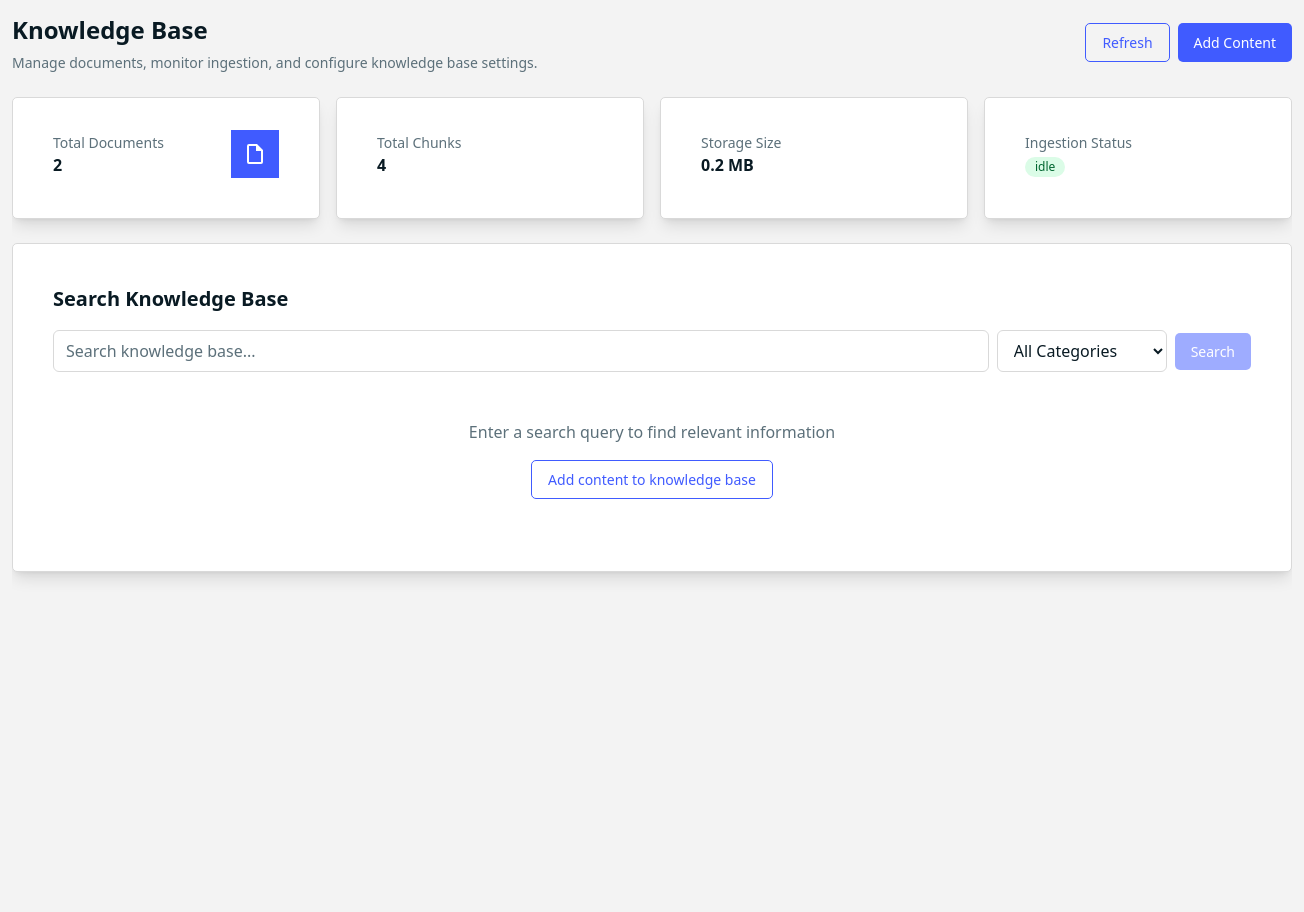
Scenario: Knowledge › shows search errors from the API
The width and height of the screenshot is (1304, 912).
Check: the heading "Knowledge Base" is shown, box [12, 13, 208, 46]
In the field with placeholder "Search knowledge base...": (521, 351) [53, 330, 989, 372], type "how do I tune memory"
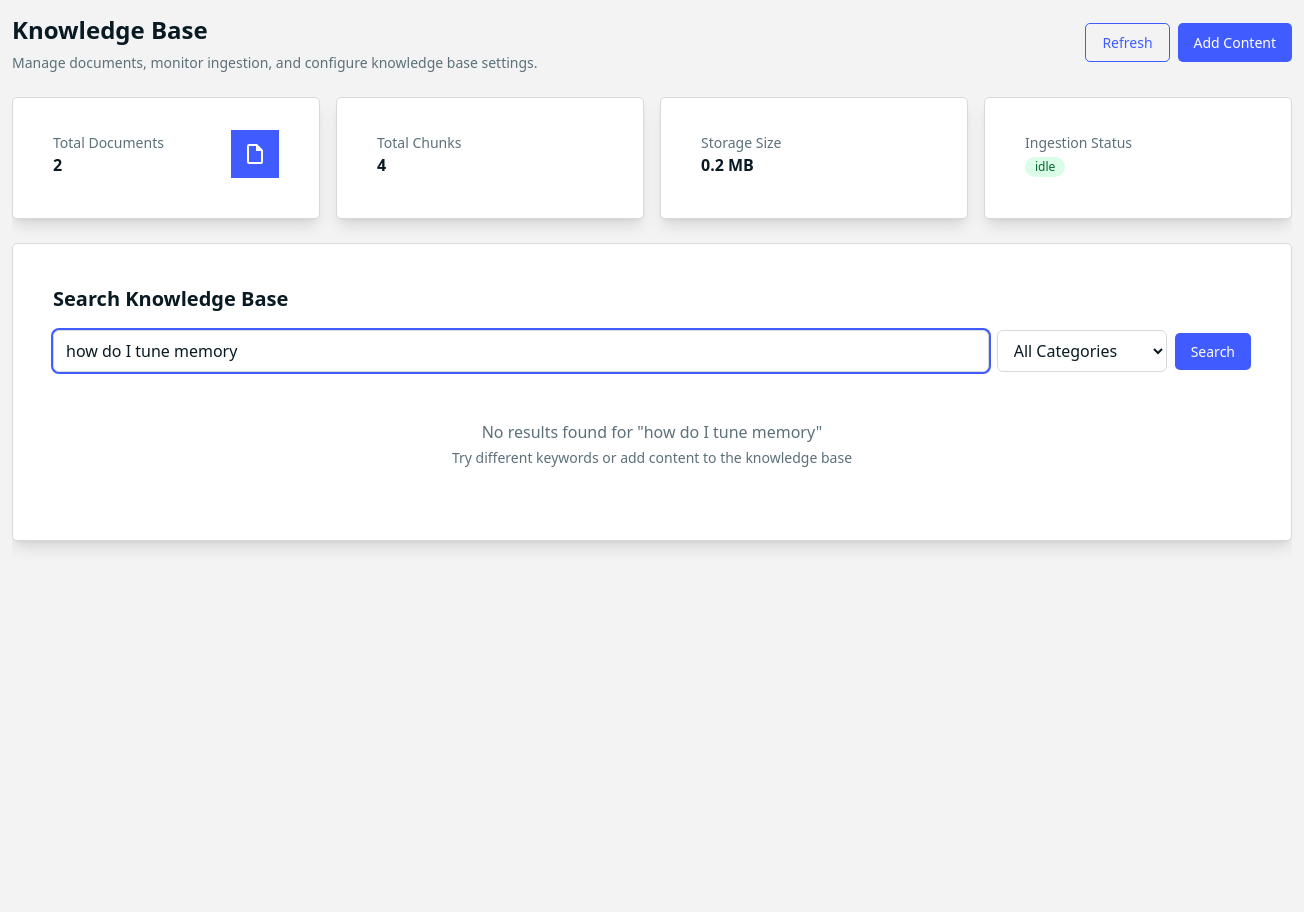
Click the button "Search": click(1213, 351) [1175, 332, 1251, 370]
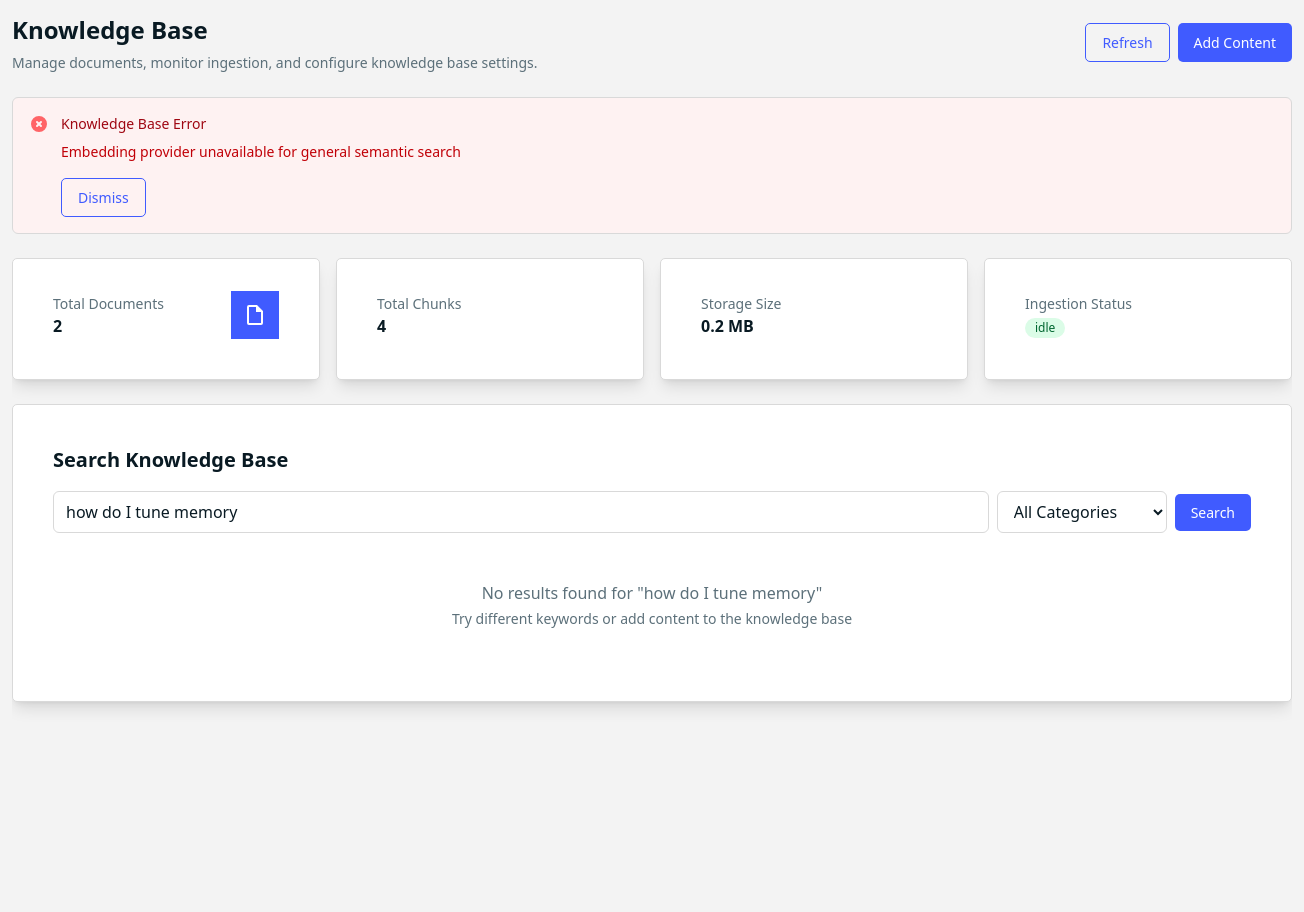
Check: the heading "Knowledge Base Error" is shown, box [61, 114, 206, 133]
Check: the text "Embedding provider unavailable for general semantic search" is shown, box [61, 142, 461, 162]
